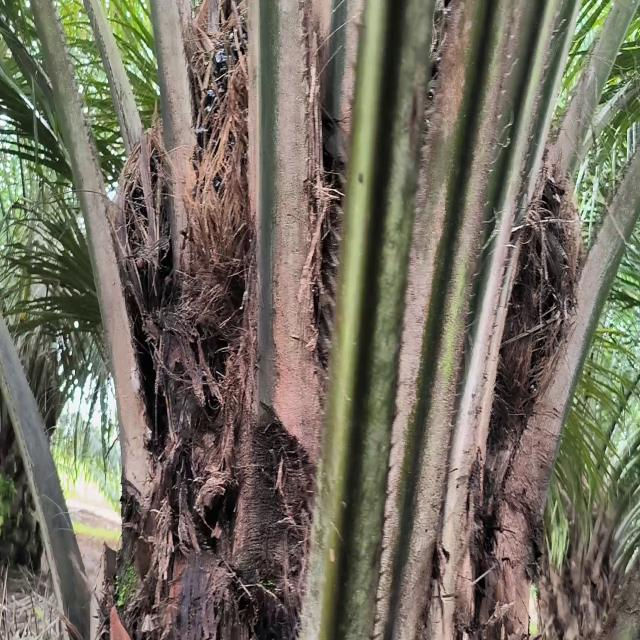palm-oil: (185, 36, 266, 282)
